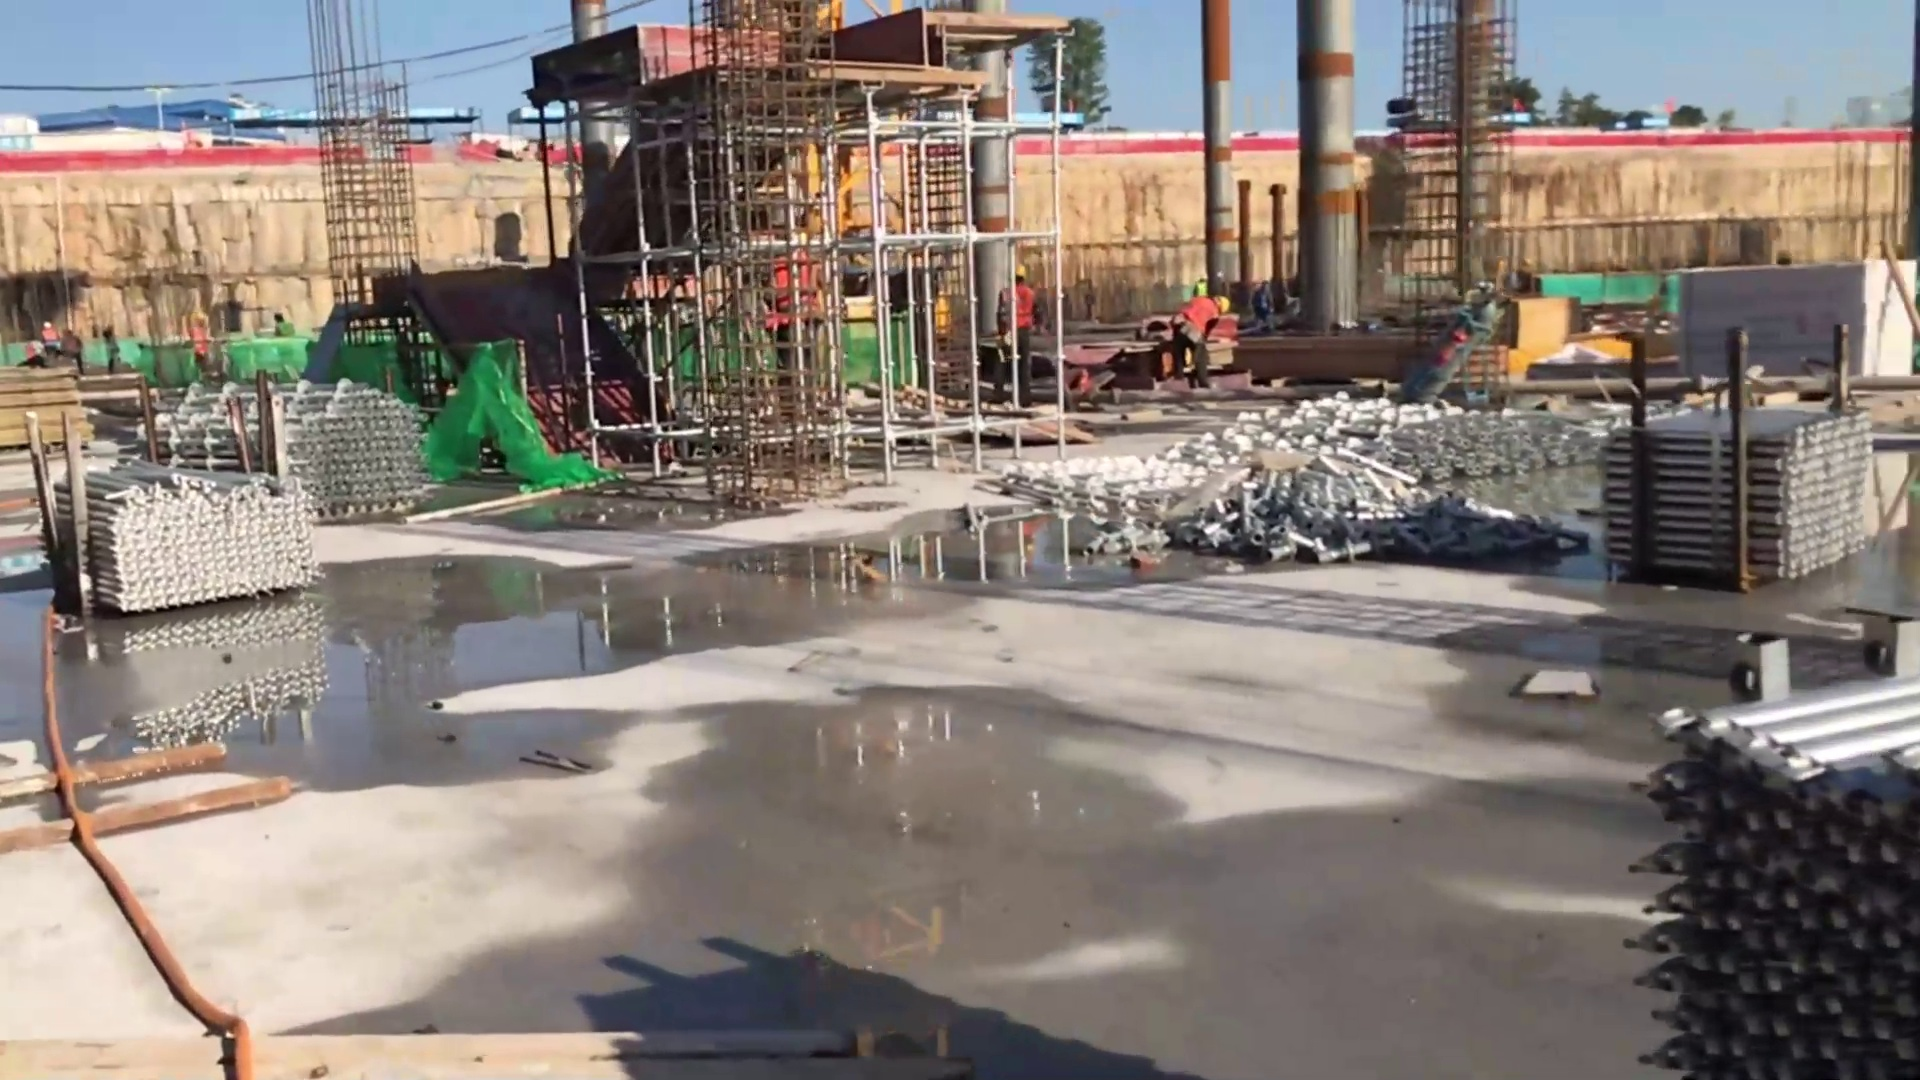helmet: (1214, 296, 1229, 313)
person: (1166, 291, 1240, 392), (996, 258, 1039, 403)
scaffold: (1638, 672, 1920, 1073), (1596, 408, 1874, 581), (48, 461, 321, 618), (296, 381, 424, 518), (1388, 411, 1598, 476)
